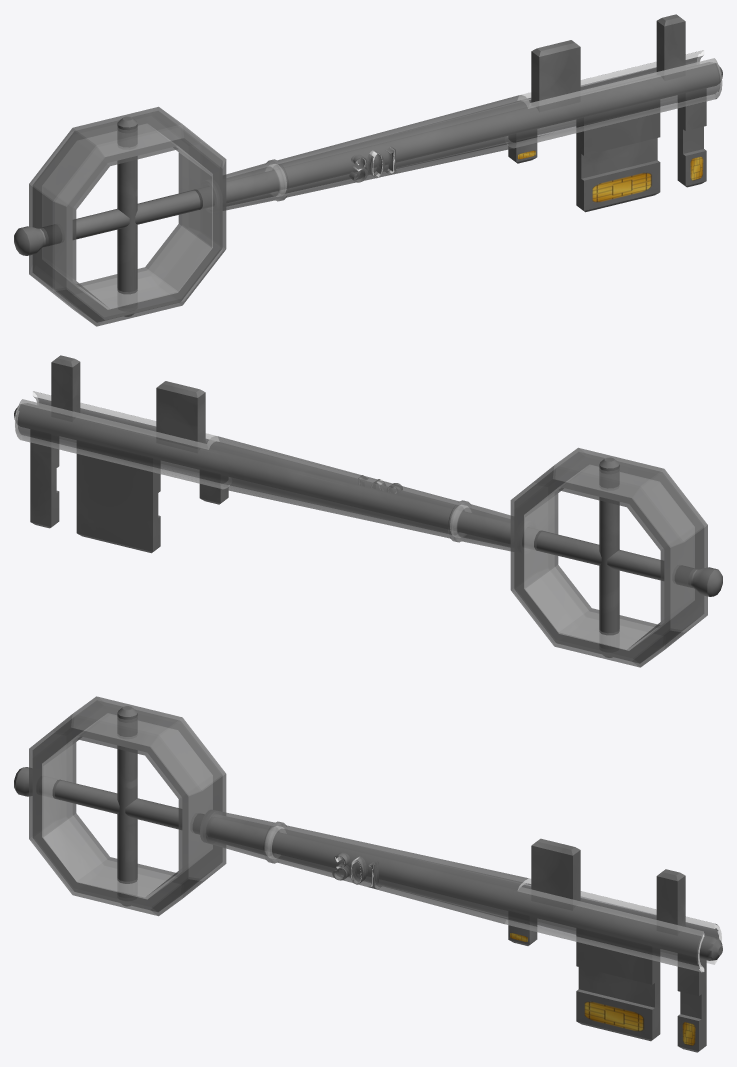
The model's file is chip_key.glb.
3 renders of one model, top to bottom at view 1: azimuth 30°, elevation 25°; view 2: azimuth 150°, elevation 25°; view 3: azimuth 330°, elevation 25°, orthographic.
Parts seen in each view (by area): view 1: Object_2, Text; view 2: Object_2; view 3: Object_2, Text.
Boxes of the visible parts, x1,y1,x2,y2 form: Object_2: (14, 14, 722, 326); Text: (350, 146, 399, 182); Object_2: (14, 355, 722, 667); Object_2: (14, 696, 722, 1052); Text: (332, 852, 381, 889).
Size of the model in its own units: 8.45 by 2.34 by 0.7126.
Materials: 1 (1 with a texture image).
